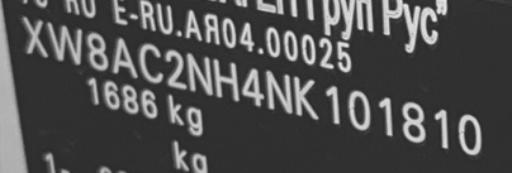letter: (452, 106, 488, 160), (47, 17, 83, 66), (208, 53, 240, 104), (16, 15, 52, 60), (182, 48, 212, 97), (263, 66, 293, 115), (290, 72, 318, 123), (136, 38, 164, 87), (108, 34, 136, 82), (400, 97, 426, 148), (346, 83, 372, 130), (82, 28, 108, 74), (242, 63, 266, 112), (160, 46, 186, 91), (427, 104, 451, 152), (374, 91, 398, 139), (321, 79, 343, 128)
